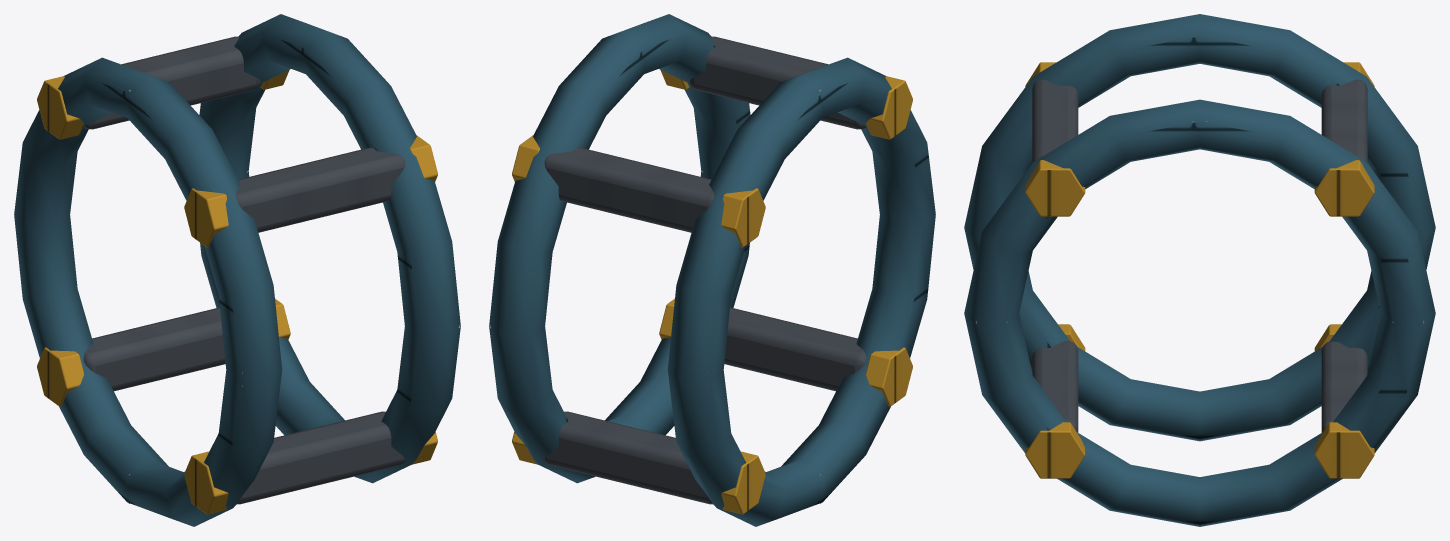
Rendered from flange_coupler_lod0.glb.
3 renders of one model, left to right at view 1: azimuth 30°, elevation 25°; view 2: azimuth 150°, elevation 25°; view 3: azimuth 270°, elevation 25°, orthographic.
Parts seen in each view (by area): view 1: LOD0_Armor, LOD0_Mechanical, LOD0_Warning; view 2: LOD0_Armor, LOD0_Mechanical, LOD0_Warning; view 3: LOD0_Armor, LOD0_Mechanical, LOD0_Warning.
Part boxes in pixels (left/top/right/bottom): LOD0_Armor: left=14, top=14, right=460, bottom=526; LOD0_Mechanical: left=83, top=36, right=405, bottom=504; LOD0_Warning: left=37, top=70, right=437, bottom=514; LOD0_Armor: left=489, top=14, right=935, bottom=526; LOD0_Mechanical: left=544, top=36, right=866, bottom=504; LOD0_Warning: left=512, top=70, right=912, bottom=514; LOD0_Armor: left=964, top=14, right=1435, bottom=526; LOD0_Mechanical: left=1032, top=79, right=1367, bottom=432; LOD0_Warning: left=1025, top=62, right=1374, bottom=478.
Bounding box in the file's own units: 0.88 × 1.63 × 1.63.
4 materials, 4 textured.
